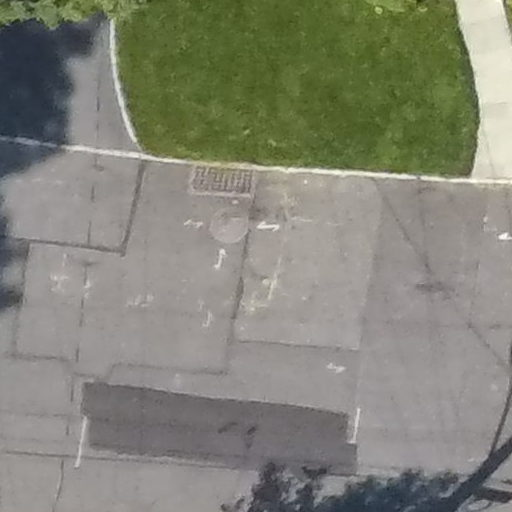drain: (185, 153, 262, 203)
